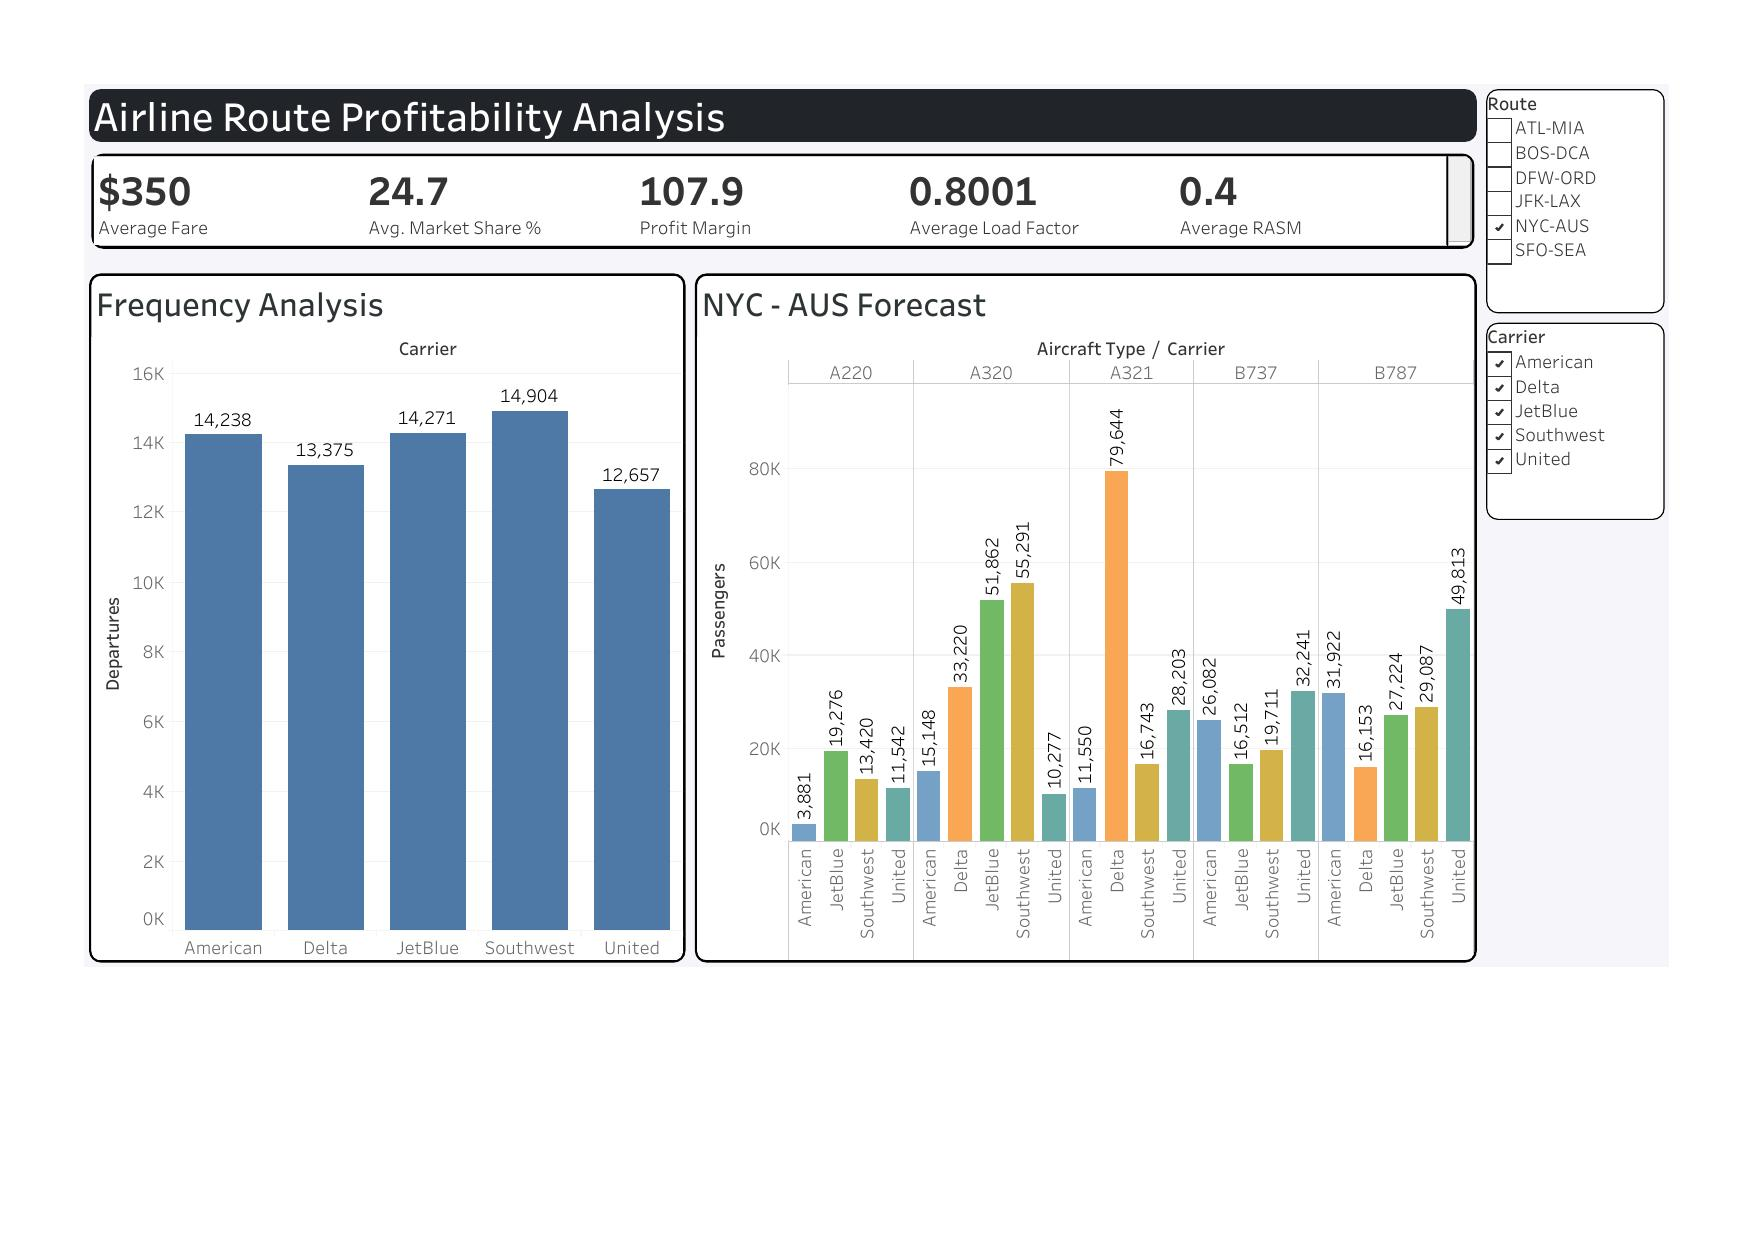

This screenshot's page, from the dashboard's own definition file:
{"tool":"tableau","page":{"name":"Dashboard 2","canvas":[1366,768],"ordinal":1},"visuals":[{"type":"title","box":[8,8,1190,53]},{"type":"filter","title":"NYC–AUS Forecast","param":"[federated.1uu809b0lch9x5181ekie16xt04k].[none:Route:nk]","box":[1198,8,160,199]},{"type":"worksheet","title":"KPI","mark":"Text","box":[8,61,1190,93]},{"type":"worksheet","title":"Frequency Analysis","mark":"Automatic","rows":["Departures"],"cols":["Carrier"],"box":[8,164.5,516,595.5]},{"type":"worksheet","title":"NYC–AUS Forecast","mark":"Automatic","rows":["Passengers"],"cols":["Aircraft_Type","Carrier"],"box":[524,164.5,674,595.5]},{"type":"filter","title":"NYC–AUS Forecast","param":"[federated.1uu809b0lch9x5181ekie16xt04k].[none:Carrier:nk]","box":[1198,207,160,176]}]}

Visuals, with their boxes on the page's 1366x768 design canvas (x1, y1, x2, y2). These are canvas units, not pixel positions in the 1755x1240 screenshot, which may show the page scaled, cropped or inside an application window:
title: detection(8, 8, 1198, 61)
"NYC–AUS Forecast" filter: detection(1198, 8, 1358, 207)
"KPI" worksheet (Text marks): detection(8, 61, 1198, 154)
"Frequency Analysis" worksheet: detection(8, 164, 524, 760)
"NYC–AUS Forecast" worksheet: detection(524, 164, 1198, 760)
"NYC–AUS Forecast" filter: detection(1198, 207, 1358, 383)
